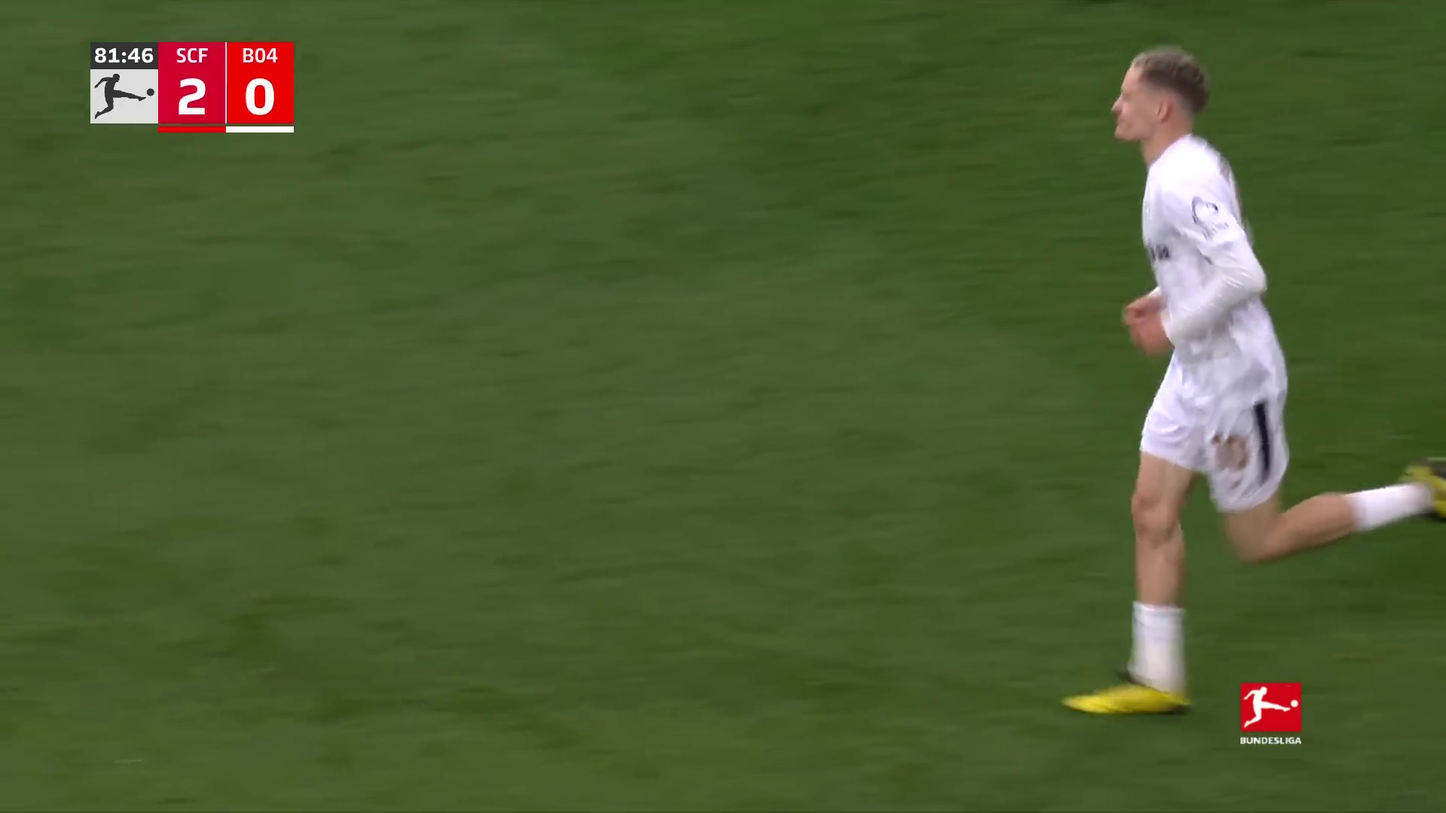player: (1028, 43, 1446, 716)
